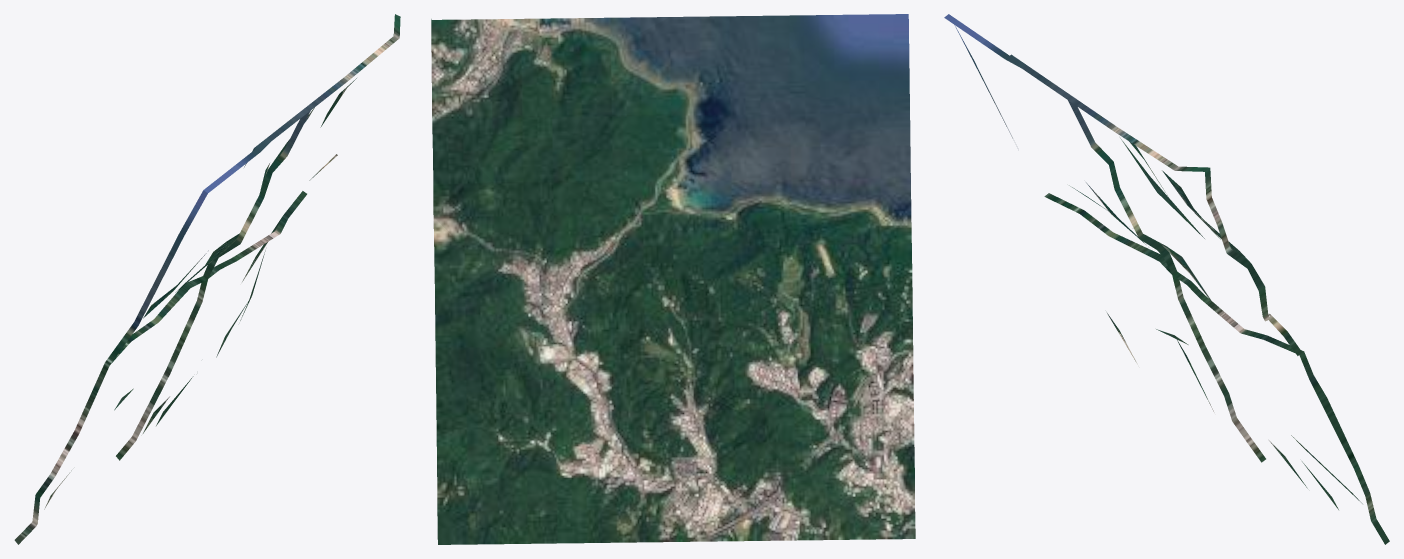
3 views of the same model, side by side, from view 1: azimuth 30°, elevation 25°; view 2: azimuth 150°, elevation 25°; view 3: azimuth 270°, elevation 25° (orthographic). The views are drawn at different scales.
Bounding box in the file's own units: 4855 × 4507 × 4265.
1 material, 1 textured.
